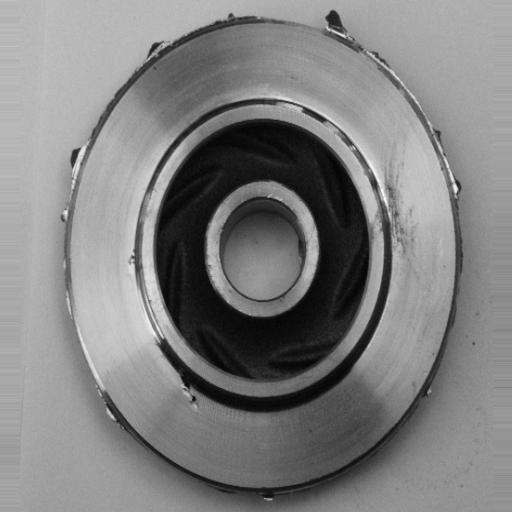casting_with_burr: (58, 5, 467, 503)
crack: (150, 325, 210, 419), (122, 244, 150, 291)
stain: (367, 137, 425, 272)
